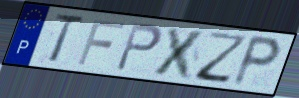F: (75, 18, 127, 67)
P: (229, 33, 283, 89), (113, 21, 164, 74)
T: (47, 13, 87, 65)
X: (149, 25, 210, 82)
Z: (193, 30, 250, 86)
